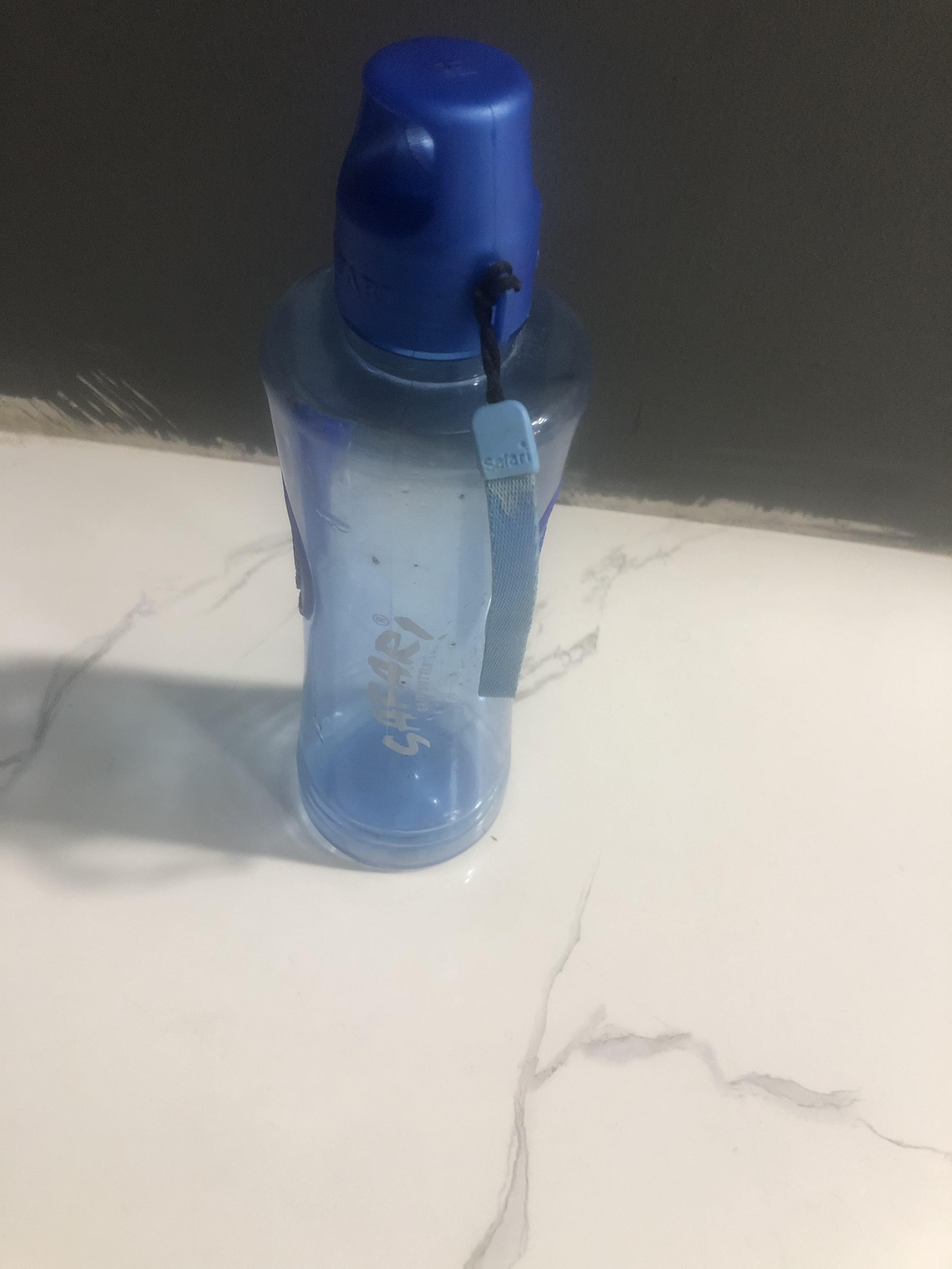gym bottle: (250, 17, 601, 878)
